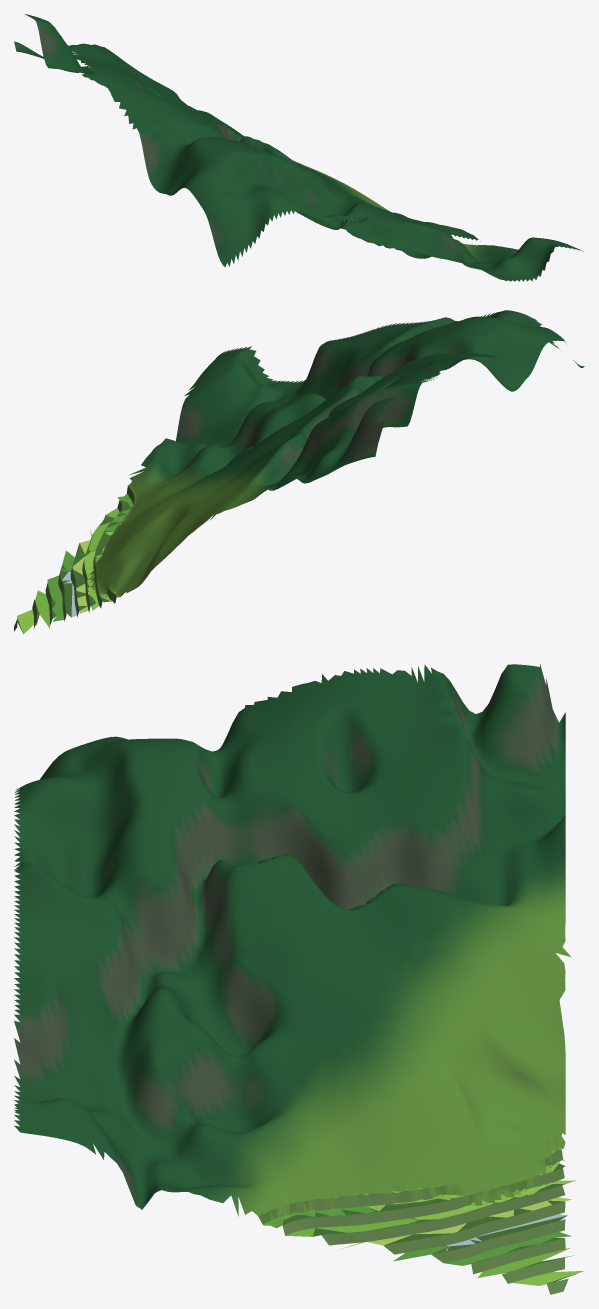
Rendered from payo_land_x0_y4.glb.
3 renders of one model, top to bottom at view 1: azimuth 30°, elevation 25°; view 2: azimuth 150°, elevation 25°; view 3: azimuth 270°, elevation 25°, orthographic. The views are drawn at different scales.
Visible parts, largest first — view 1: payo_land_x0_y4; view 2: payo_land_x0_y4; view 3: payo_land_x0_y4.
Part boxes in pixels (x1,y1,x2,y2): payo_land_x0_y4: (14, 14, 583, 281); payo_land_x0_y4: (14, 310, 584, 634); payo_land_x0_y4: (14, 664, 584, 1294).
Bounding box in the file's own units: 268 × 206 × 267.
